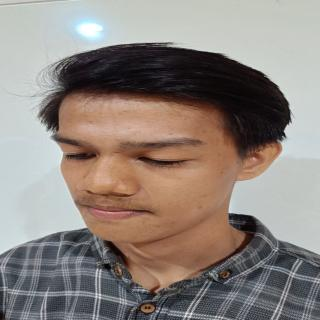Sedih: (53, 87, 238, 249)
